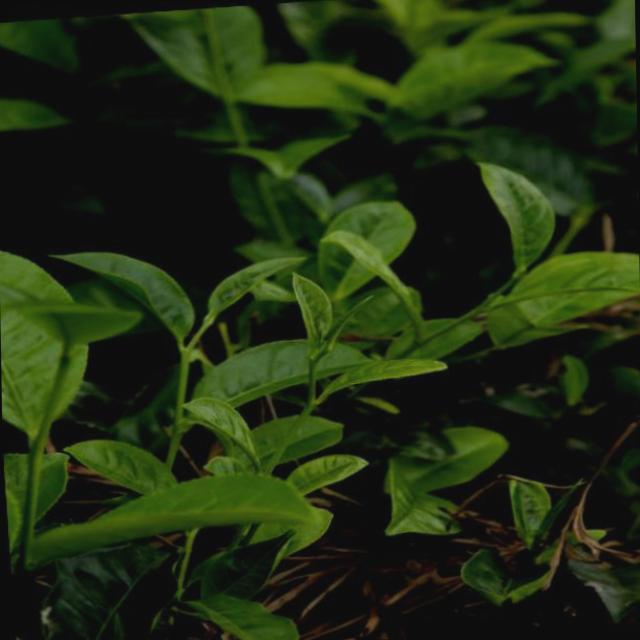Stem: (182, 348, 191, 358), (308, 357, 316, 367), (478, 305, 485, 312)
